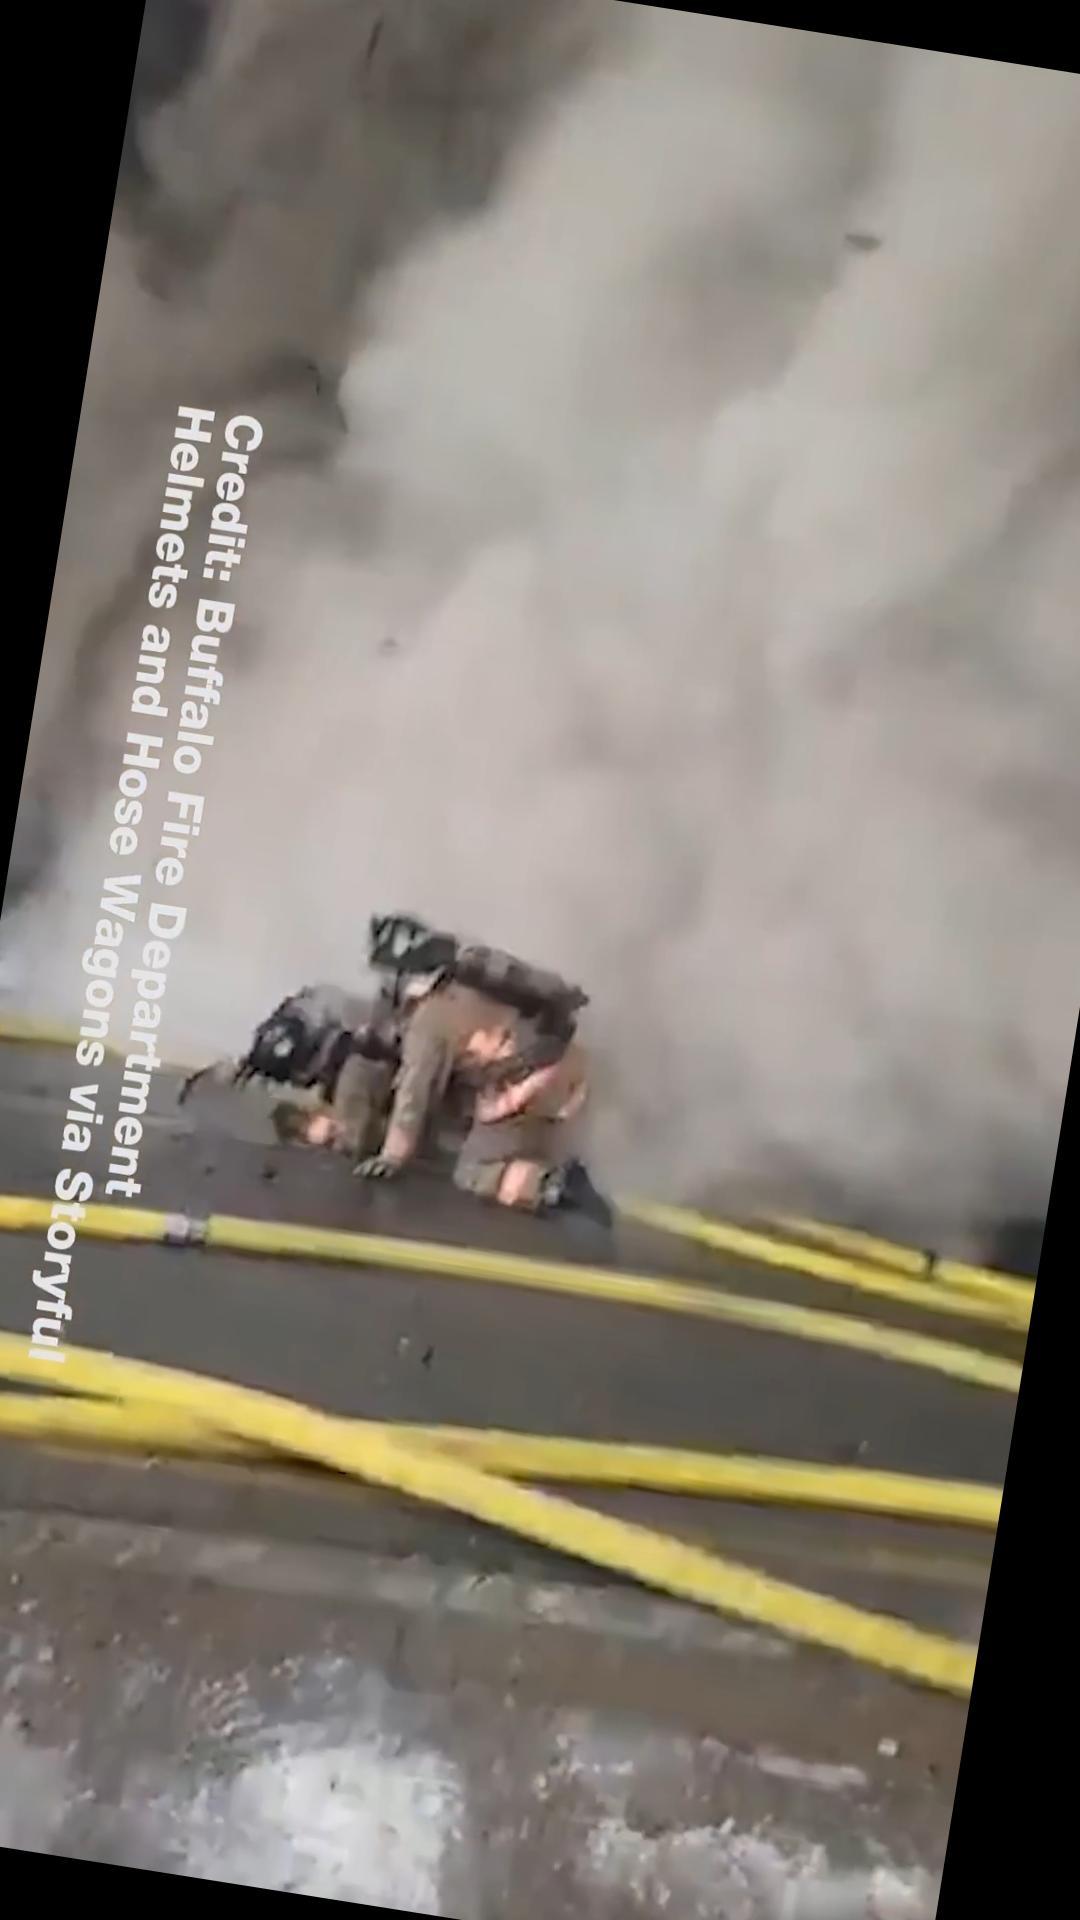Smoke: (207, 0, 1080, 1251)
